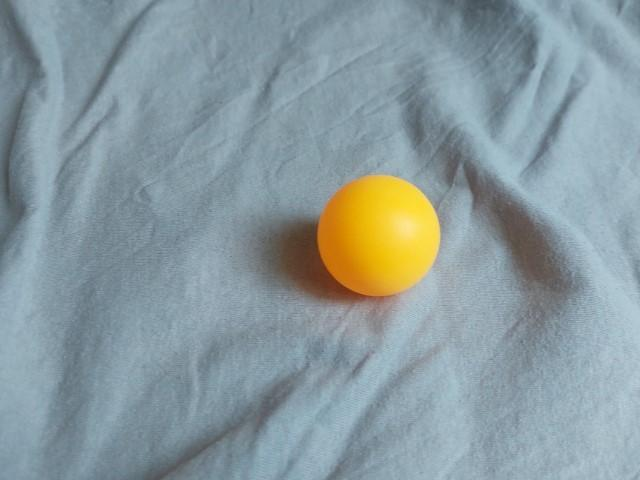oball: (308, 171, 450, 306)
